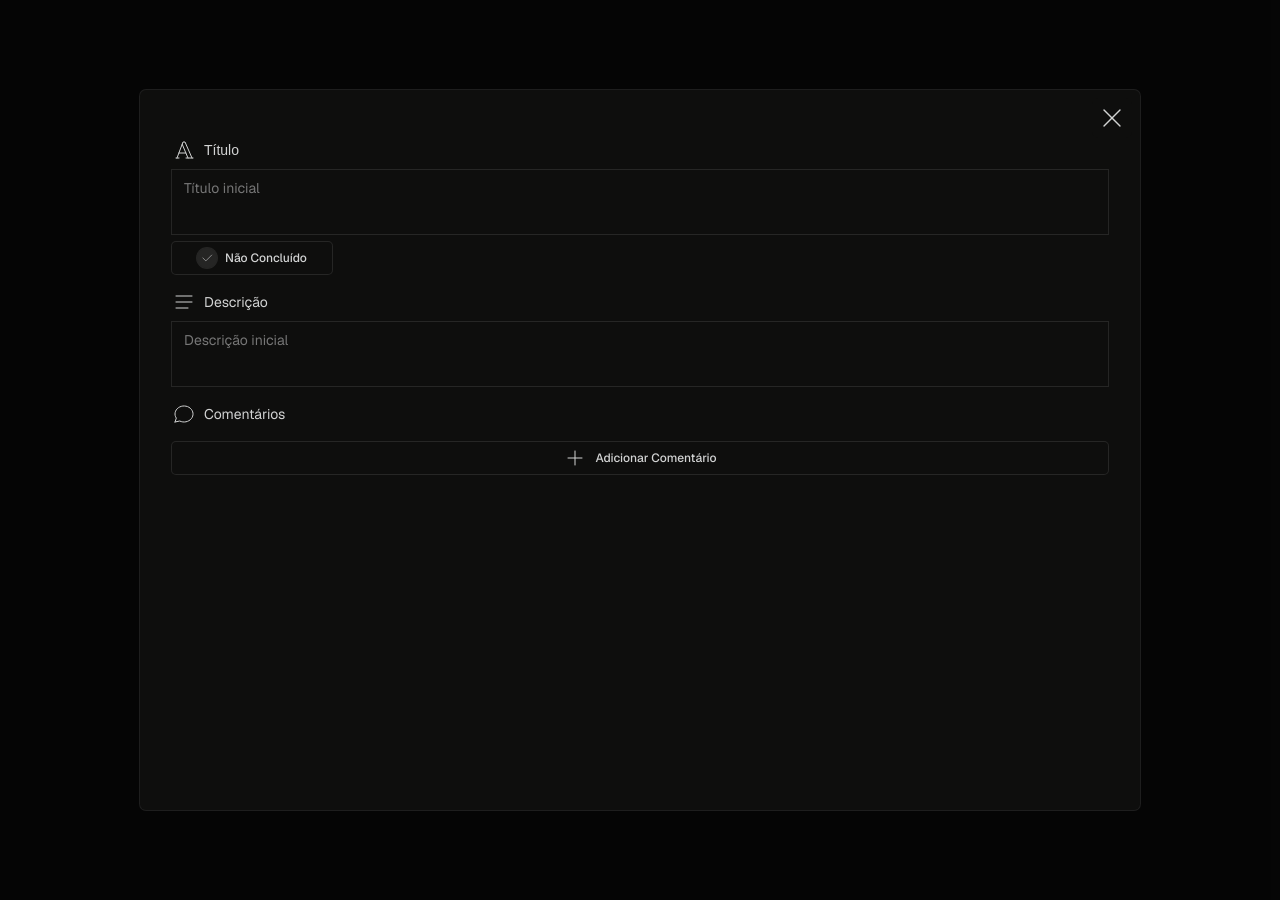
CompletedFormButton › mostra o estado atual e alterna ao enviar o formulário
Click the button with aria-label "btn-submit-completed-form": (252, 258) [172,242,332,274]
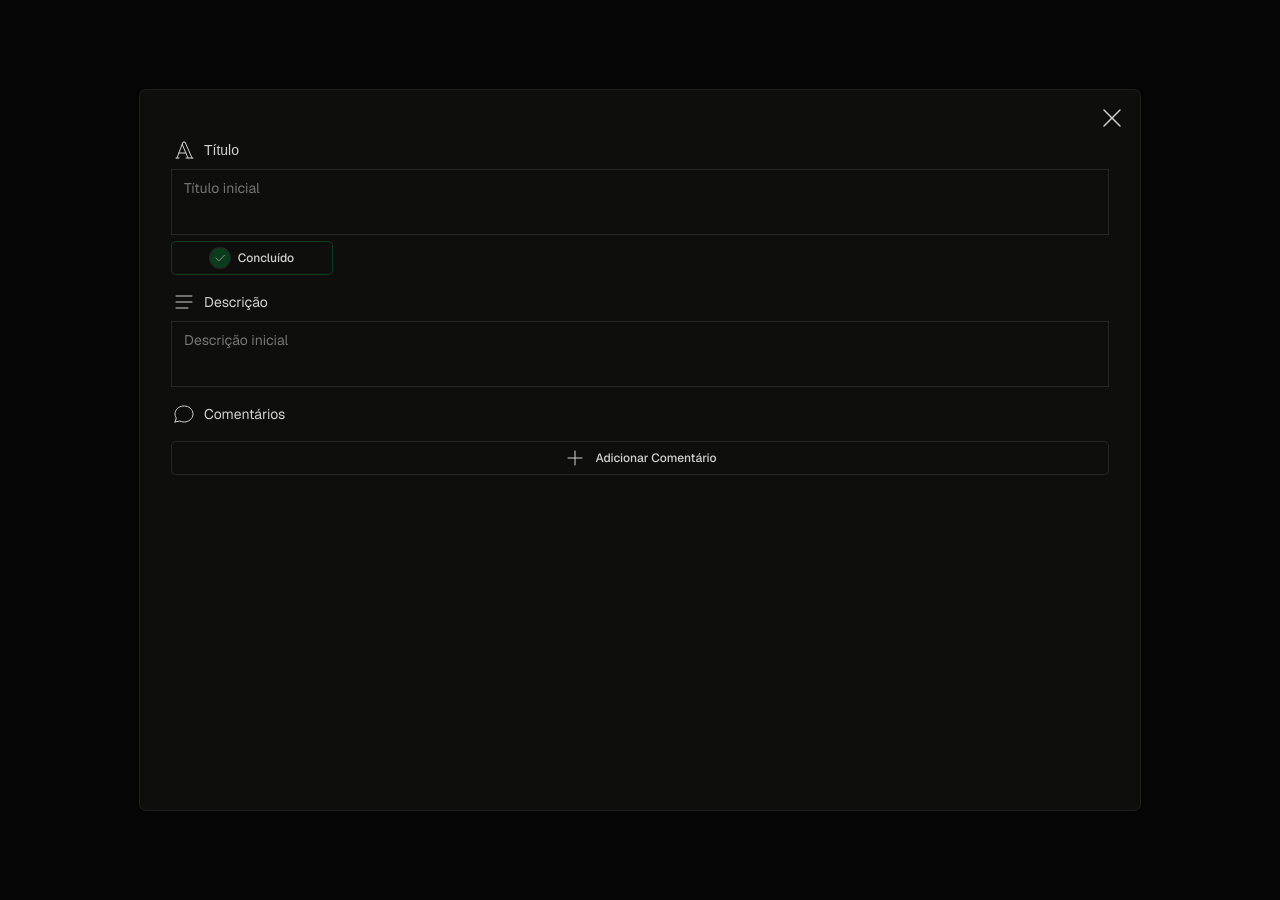
Now the button with aria-label "btn-submit-completed-form" reads "Concluído", box [172,242,332,274]
